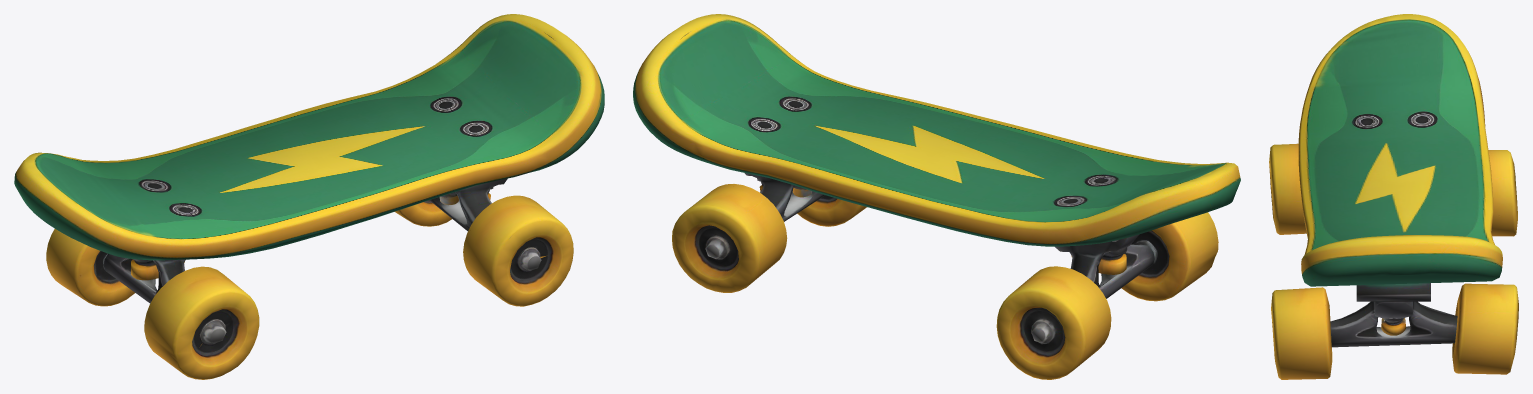
Rendered from selected.fbx.
3 renders of one model, left to right at view 1: azimuth 30°, elevation 25°; view 2: azimuth 150°, elevation 25°; view 3: azimuth 270°, elevation 25°, orthographic. The views are drawn at different scales.
Parts seen in each view (by area): view 1: tripo_node_e6828aae-7e47-4b18-b531-a6c3adf88911; view 2: tripo_node_e6828aae-7e47-4b18-b531-a6c3adf88911; view 3: tripo_node_e6828aae-7e47-4b18-b531-a6c3adf88911.
Boxes of the visible parts, box(x1,y1,x2,y2) form: tripo_node_e6828aae-7e47-4b18-b531-a6c3adf88911: box(14, 14, 604, 379); tripo_node_e6828aae-7e47-4b18-b531-a6c3adf88911: box(633, 14, 1240, 379); tripo_node_e6828aae-7e47-4b18-b531-a6c3adf88911: box(1269, 14, 1518, 379).
Bounding box in the file's own units: 0.9995 × 0.3452 × 0.4302.
1 material, 1 textured.
